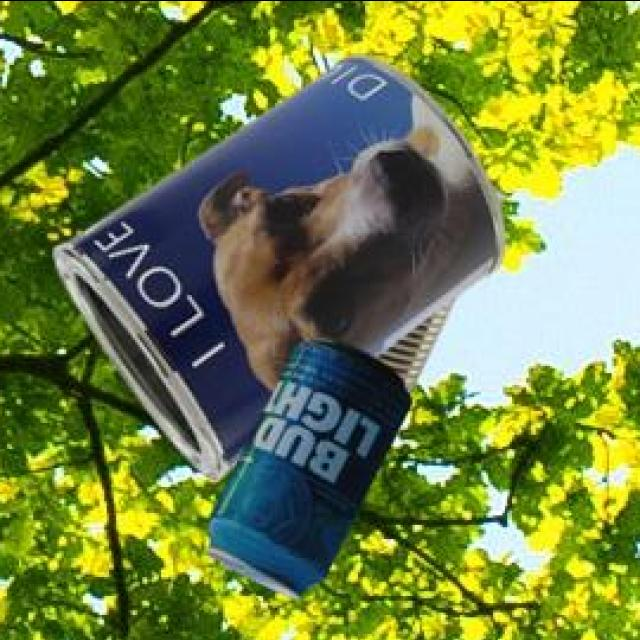logam: (51, 58, 501, 482), (203, 343, 409, 601), (371, 192, 501, 397)
